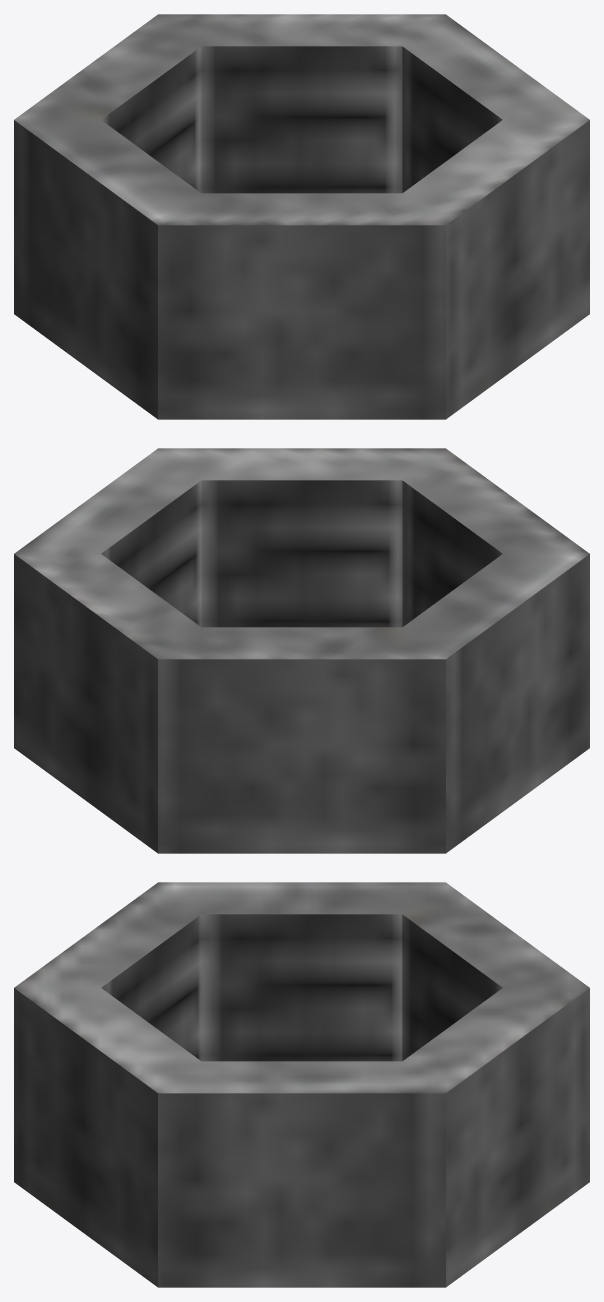
File: Tiny_Screw.fbx
3 renders of one model, top to bottom at view 1: azimuth 30°, elevation 25°; view 2: azimuth 150°, elevation 25°; view 3: azimuth 270°, elevation 25°, orthographic.
Visible parts, largest first — view 1: Cylinder.002; view 2: Cylinder.002; view 3: Cylinder.002.
Part boxes in pixels (x1,y1,x2,y2): Cylinder.002: (14,14,589,419); Cylinder.002: (14,448,589,853); Cylinder.002: (14,882,589,1287).
Size of the model in its own units: 73.33 by 31.51 by 84.68.
Materials: 1 (1 with a texture image).
